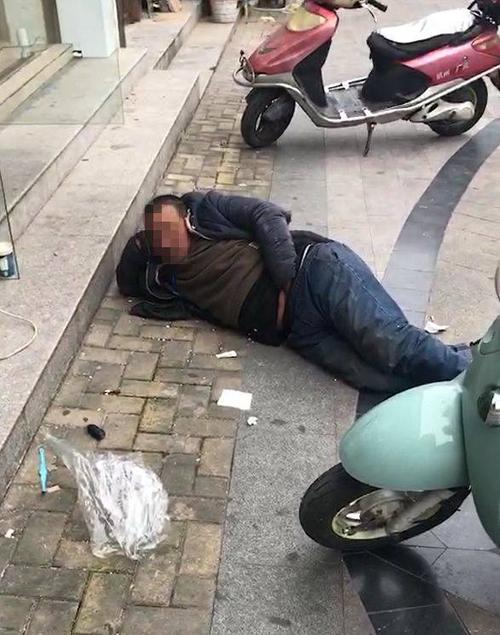fall: (134, 168, 463, 407)
